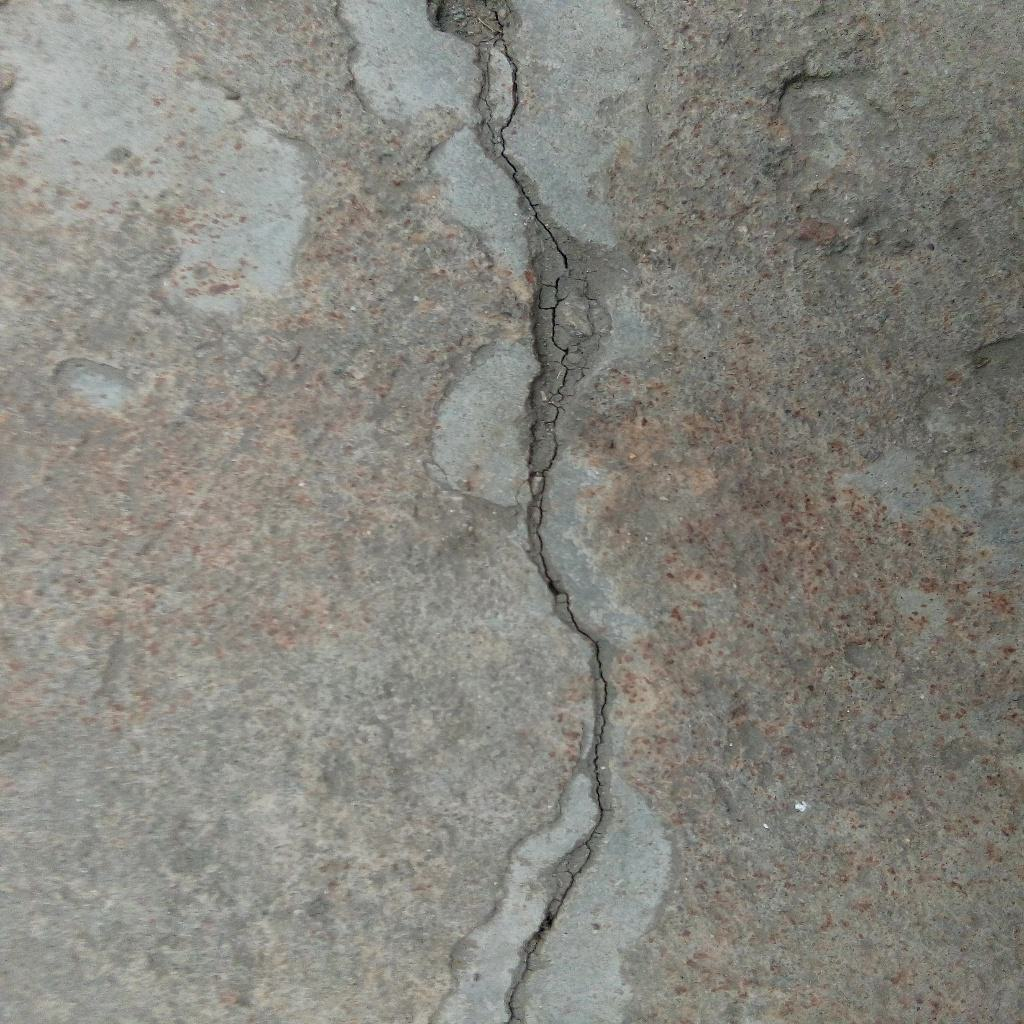Crack: (436, 1, 610, 1024)
